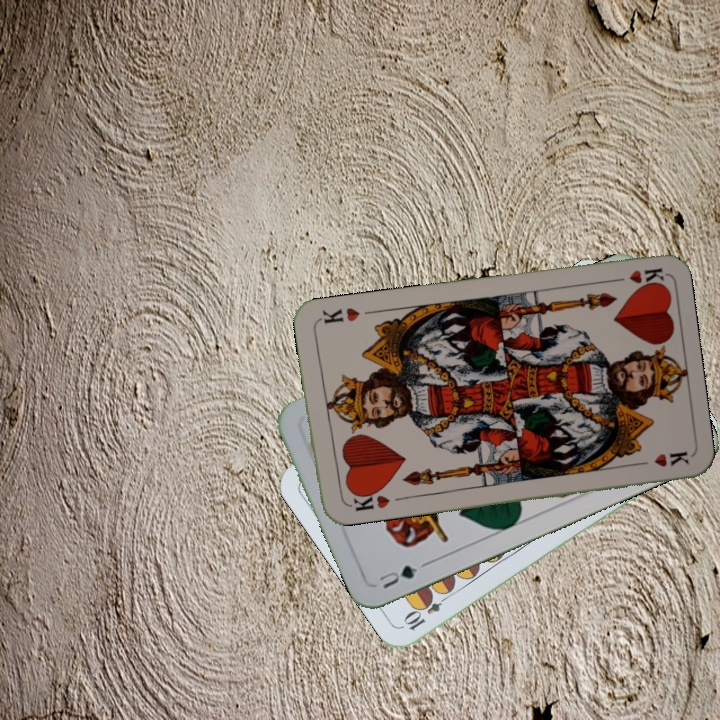E10: (400, 588, 453, 633)
GU: (374, 561, 420, 592)
HK: (605, 263, 666, 291), (342, 484, 393, 514)
